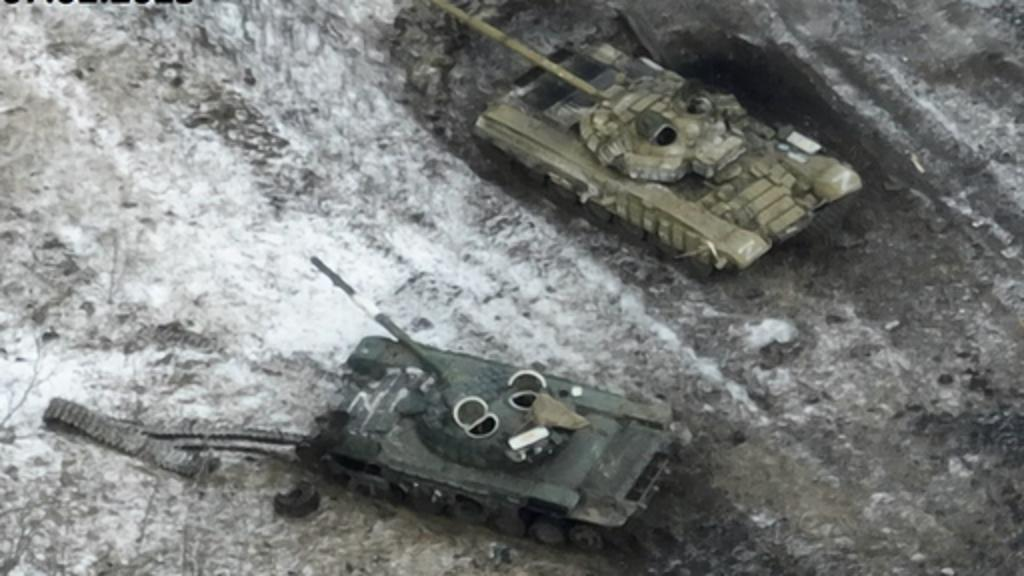TANK: (284, 244, 690, 546), (432, 2, 866, 274)
